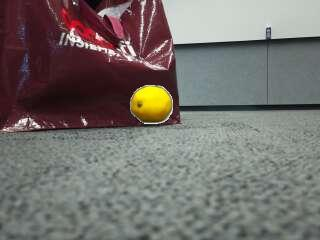lemon: (132, 86, 172, 122)
